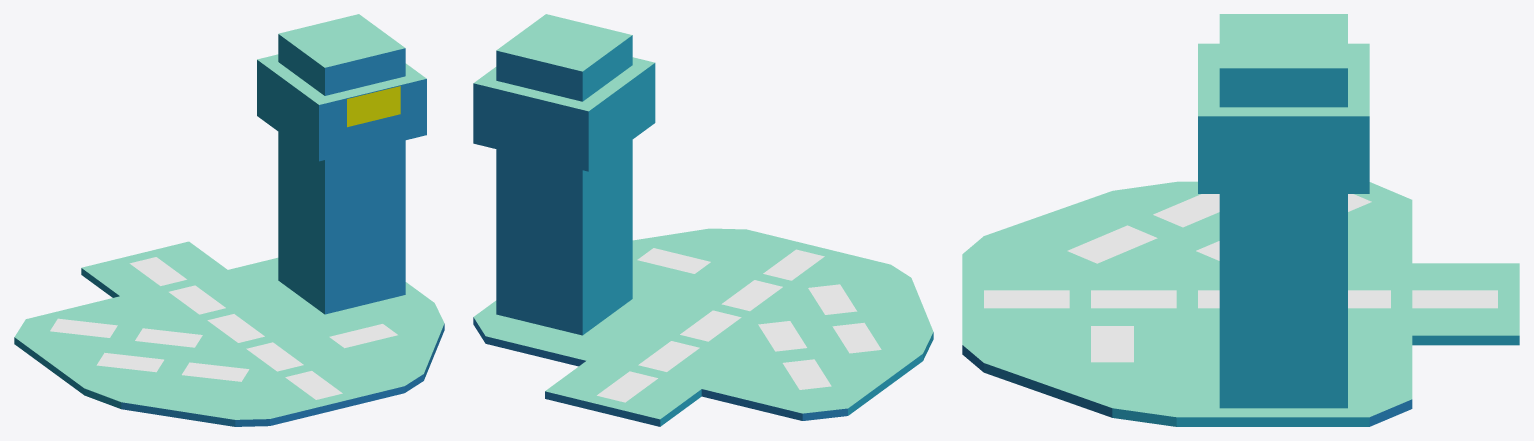
Rendered from Airport.AzureAsteroid.glb.
3 views of the same model, side by side, from view 1: azimuth 30°, elevation 25°; view 2: azimuth 150°, elevation 25°; view 3: azimuth 270°, elevation 25° (orthographic). The views are drawn at different scales.
Parts seen in each view (by area): view 1: Airport.AzureAsteroid; view 2: Airport.AzureAsteroid; view 3: Airport.AzureAsteroid.
Boxes of the visible parts, left/top/right/bottom form: Airport.AzureAsteroid: left=14, top=14, right=444, bottom=426; Airport.AzureAsteroid: left=473, top=14, right=933, bottom=426; Airport.AzureAsteroid: left=962, top=14, right=1519, bottom=426.
Bounding box in the file's own units: 2.6 × 1.8 × 2.6.
2 materials, 1 textured.
